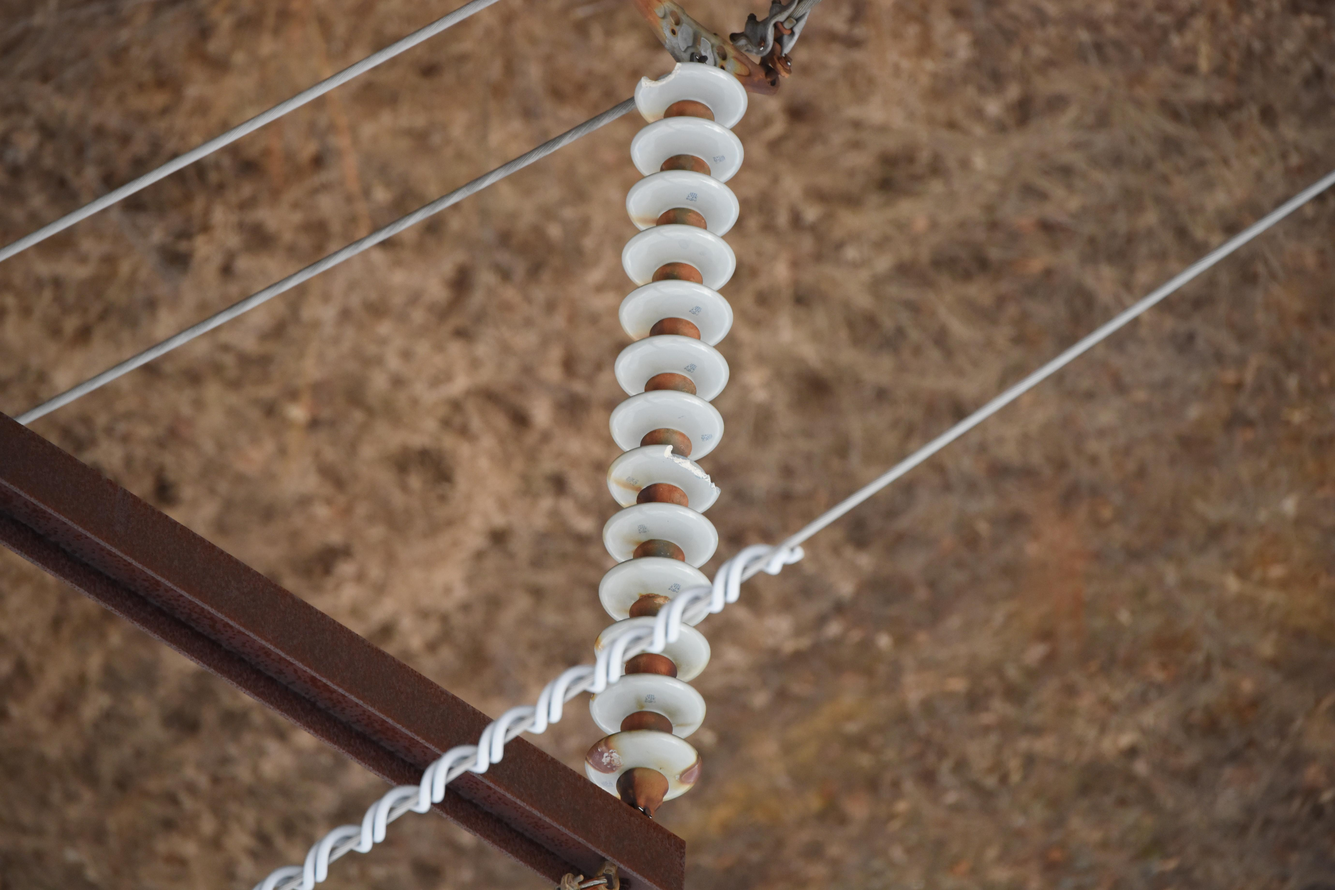damaged: (650, 440, 729, 505), (637, 59, 693, 96)
insulator: (591, 54, 749, 818)
